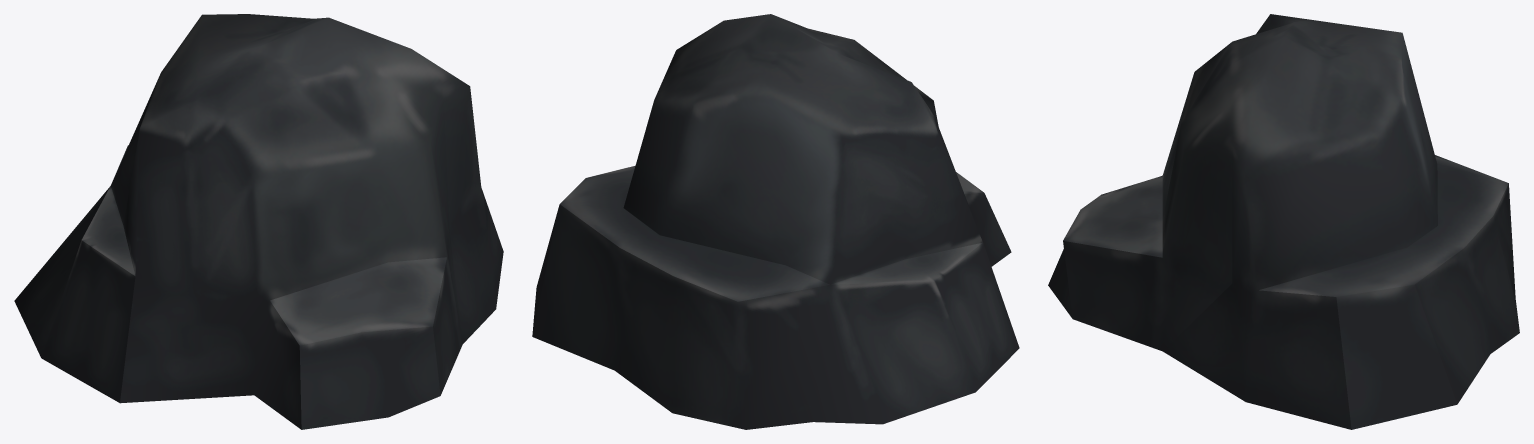
File: rock1.FBX
The picture shows the model from 3 angles, left to right: view 1: azimuth 30°, elevation 25°; view 2: azimuth 150°, elevation 25°; view 3: azimuth 270°, elevation 25°; orthographic projection. The views are drawn at different scales.
Visible parts, largest first — view 1: Box002; view 2: Box002; view 3: Box002.
Boxes of the visible parts, x1,y1,x2,y2 form: Box002: (14, 14, 503, 429); Box002: (532, 14, 1019, 429); Box002: (1048, 14, 1519, 429).
Bounding box in the file's own units: 204 × 136 × 191.
